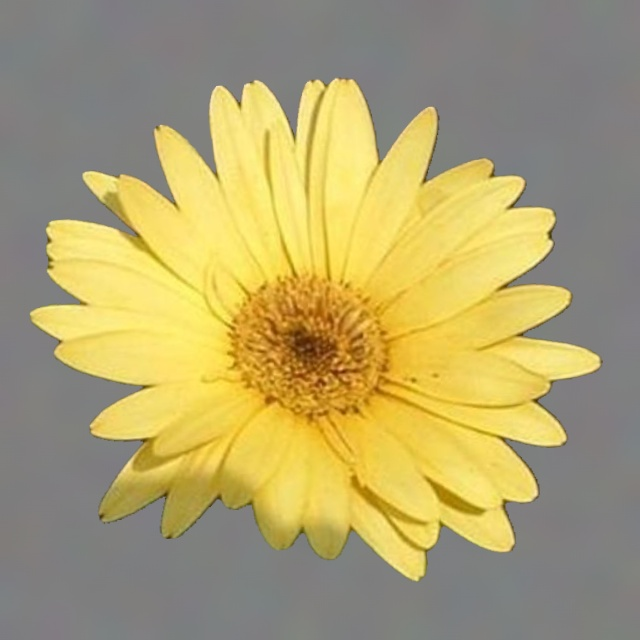daisy: (30, 78, 602, 581)
